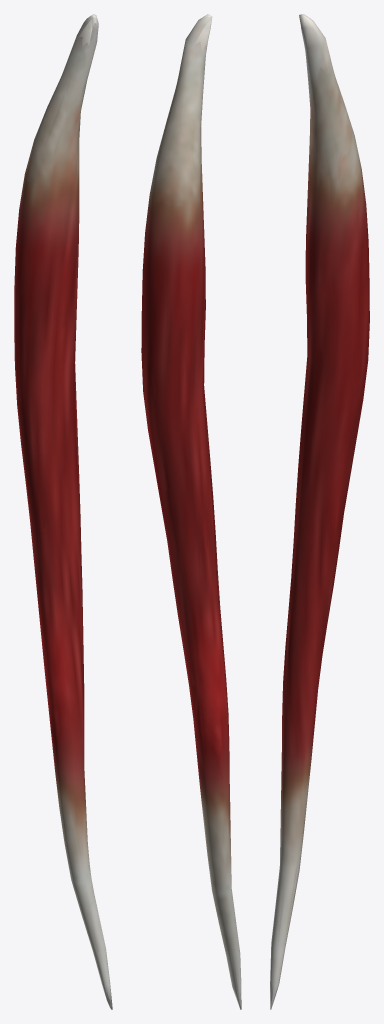
The model's file is L Flexor carpi ulnaris.fbx.
The picture shows the model from 3 angles, left to right: view 1: azimuth 90°, elevation 25°; view 2: azimuth 150°, elevation 25°; view 3: azimuth 330°, elevation 25°; orthographic projection.
Visible parts, largest first — view 1: L Flexor carpi ulnaris, L Flexor carpi ulnaris low, L Flexor carpi ulnaris high; view 2: L Flexor carpi ulnaris, L Flexor carpi ulnaris low, L Flexor carpi ulnaris high; view 3: L Flexor carpi ulnaris, L Flexor carpi ulnaris low, L Flexor carpi ulnaris high.
Part boxes in pixels (x1,y1,x2,y2): L Flexor carpi ulnaris: (14, 14, 112, 1009); L Flexor carpi ulnaris low: (16, 14, 112, 1008); L Flexor carpi ulnaris high: (17, 23, 110, 1005); L Flexor carpi ulnaris: (141, 14, 241, 1009); L Flexor carpi ulnaris low: (143, 18, 241, 1008); L Flexor carpi ulnaris high: (149, 18, 241, 1007); L Flexor carpi ulnaris: (270, 14, 369, 1009); L Flexor carpi ulnaris low: (270, 14, 369, 1009); L Flexor carpi ulnaris high: (271, 22, 363, 971).
Size of the model in its own units: 0.8367 by 11 by 0.998.
Materials: 1 (1 with a texture image).
